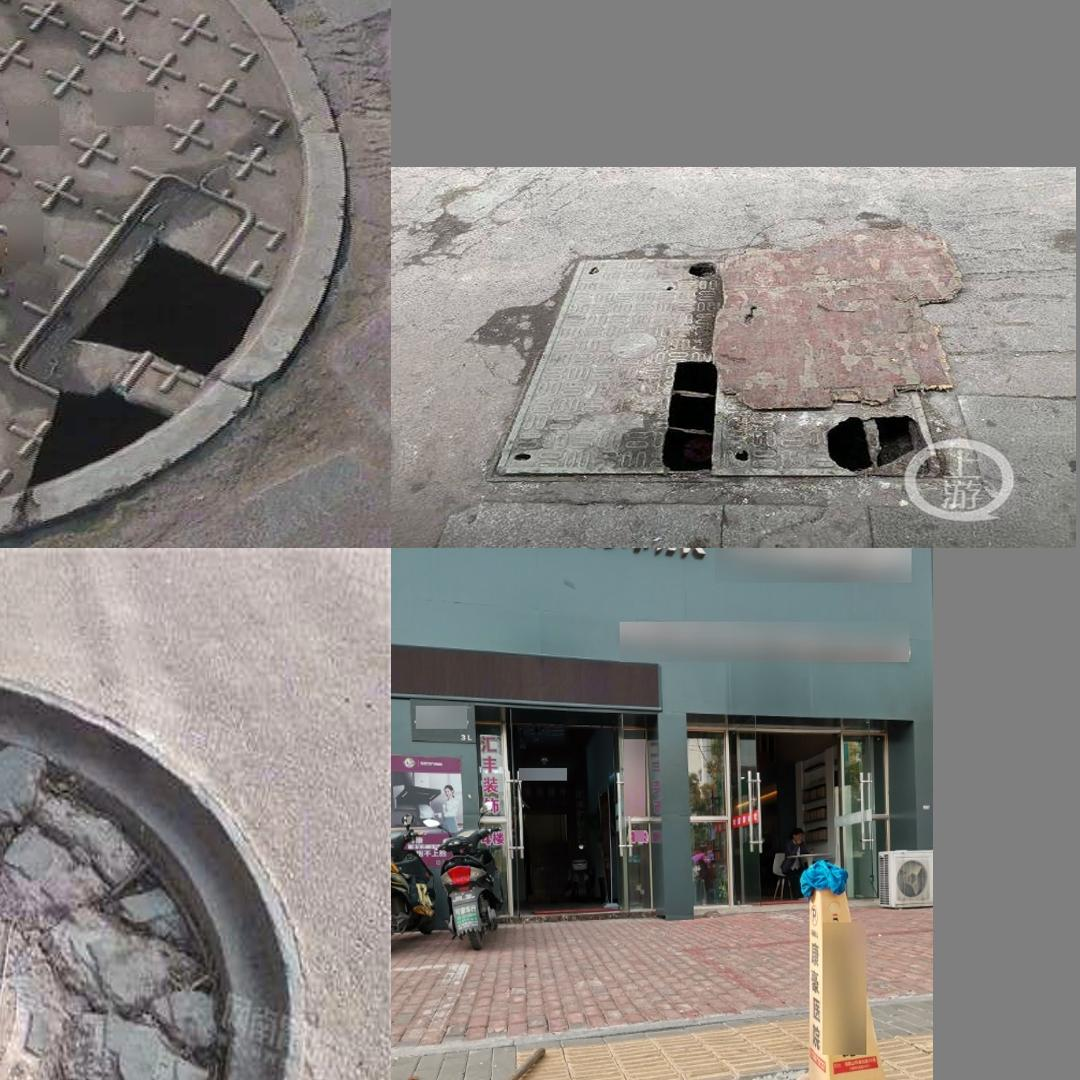broke: (0, 0, 299, 527), (0, 647, 321, 1080), (485, 240, 971, 499), (545, 1069, 888, 1080)
